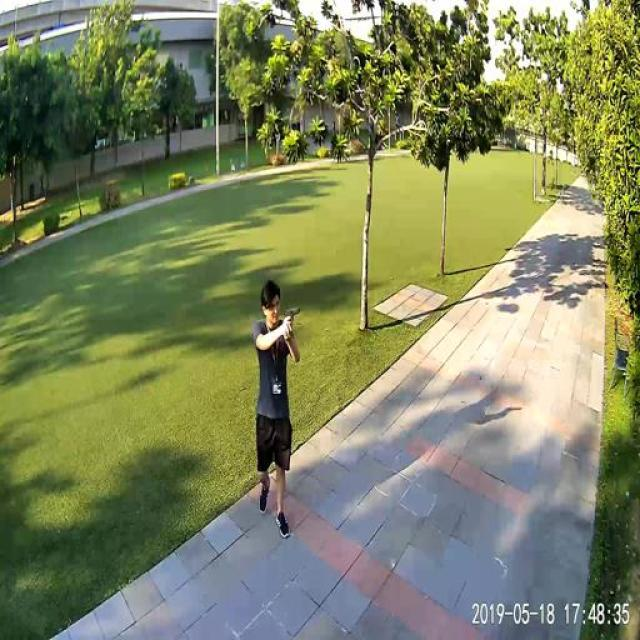Gun: (282, 303, 306, 339)
